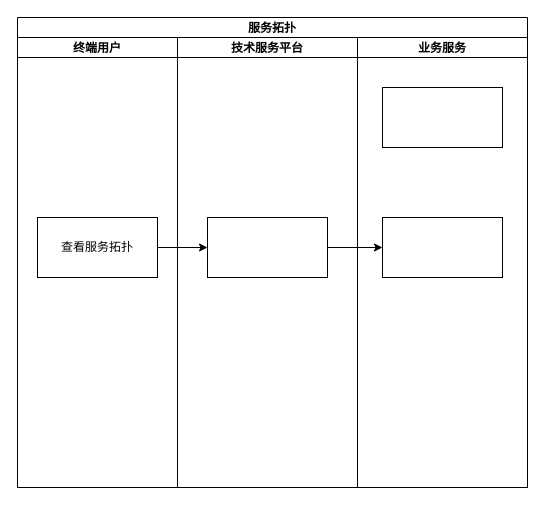
The diagram is 545 pixels wide and 505 high, and some of its shapes have lost their labels. The shapes that lost their labels are listed below. From the top down, each one's centre as x and y in pixels, then its label:
At (442,117): "服务启动时解析 Feign模块调用关系".
At (267,247): "发起查询请求".
At (442,247): "返回Feign调用关系".
